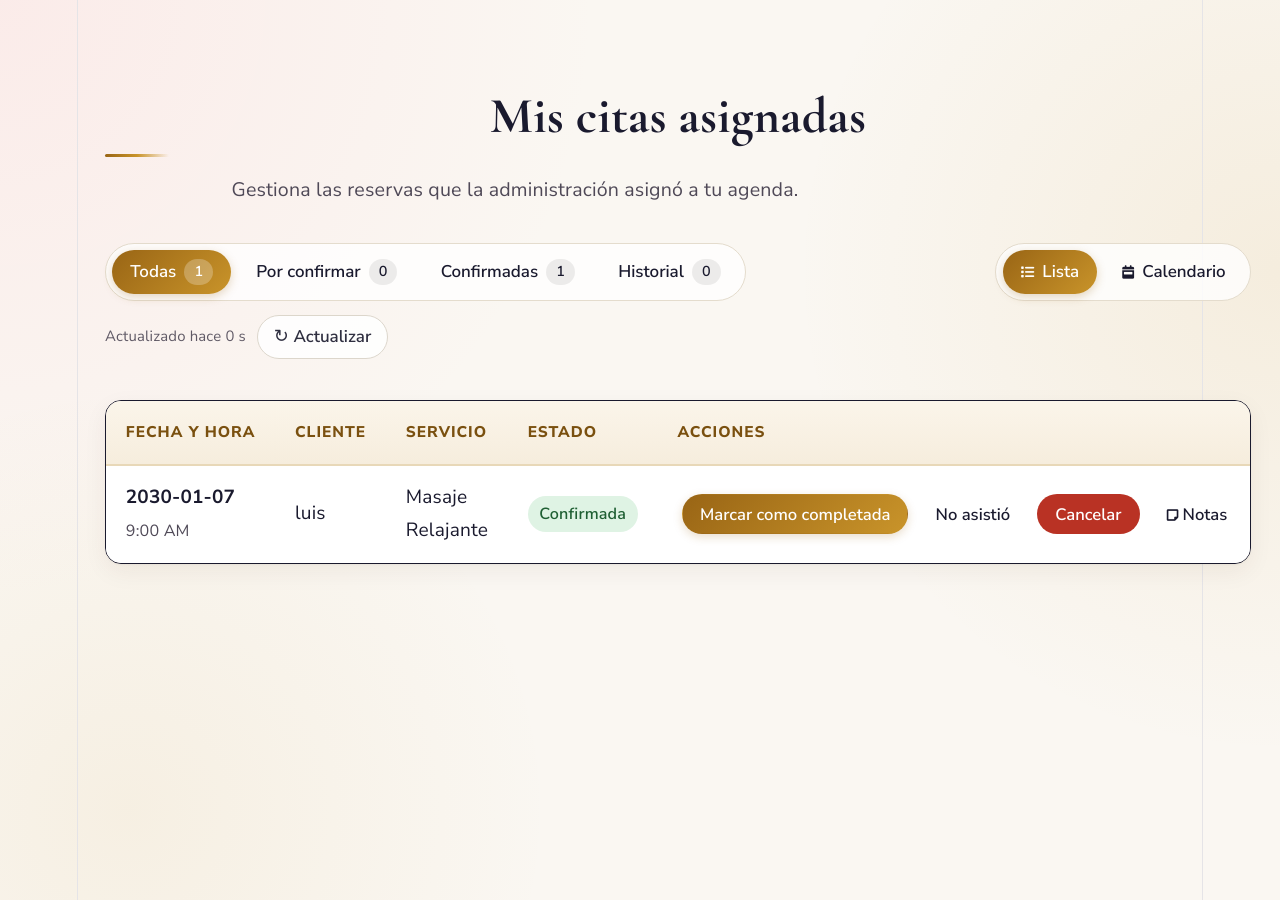
Scenario: Paneles en vivo › el botón de actualizar trae los datos sin esperar los 30 s
The image size is (1280, 900).
Click the button with aria-label "Actualizar ahora".
click(323, 337)  # box [257,315,388,359]
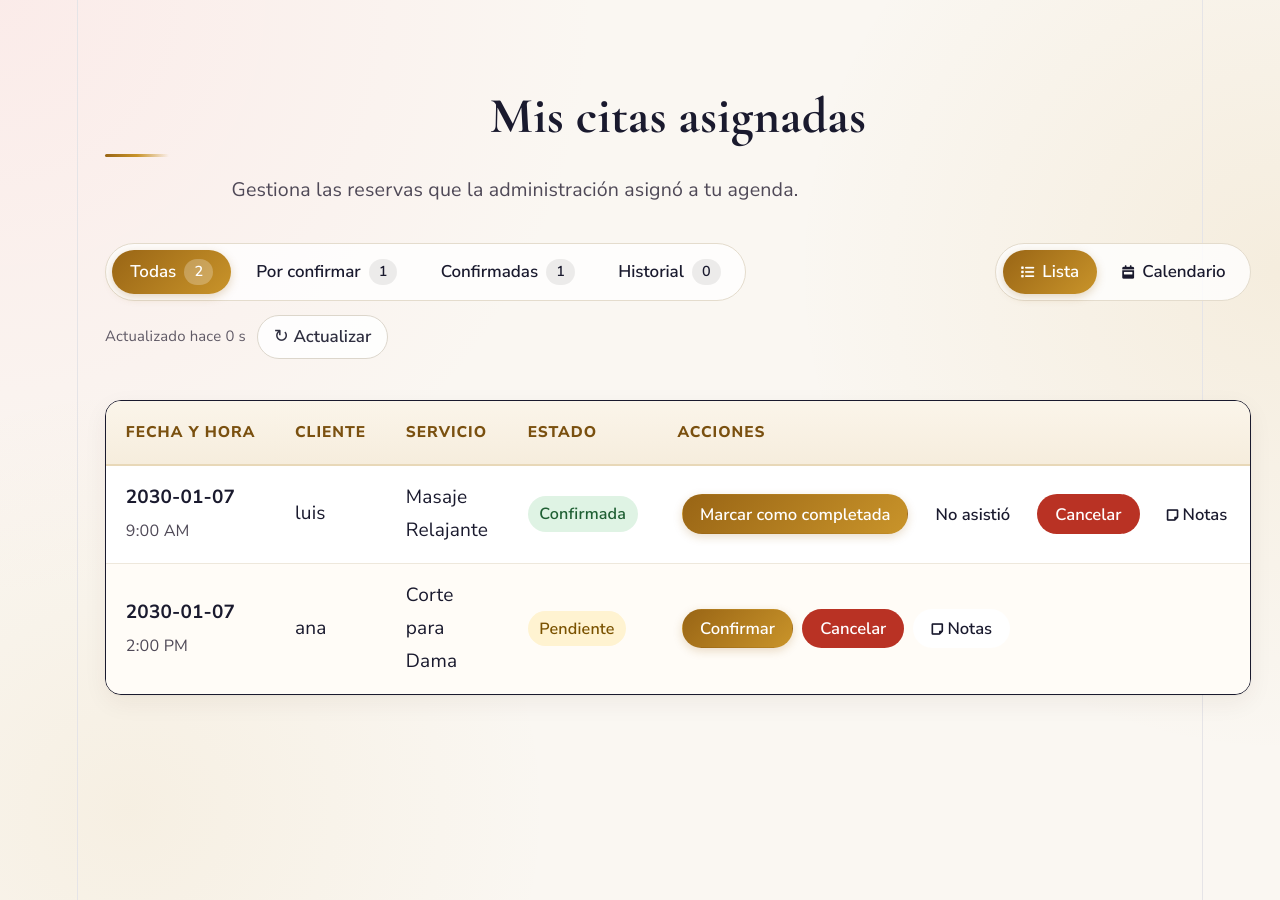
Result: the text "ana" is shown at [275,563,386,694]
